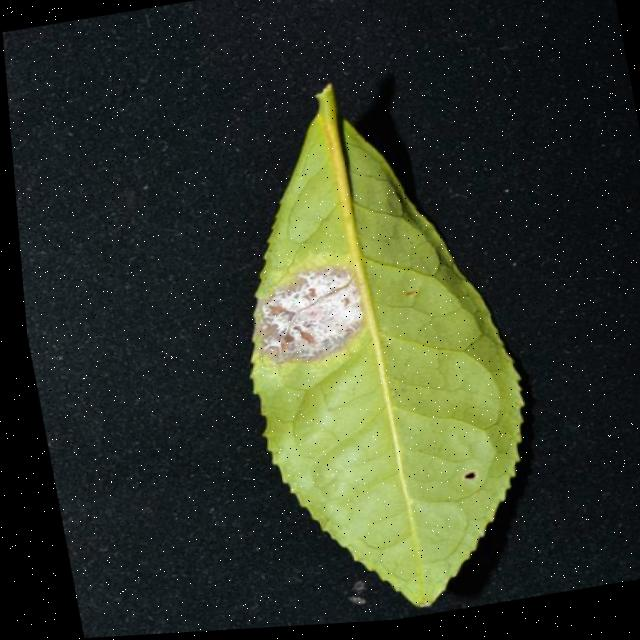Tea exobasidium blight: (237, 259, 371, 368)
